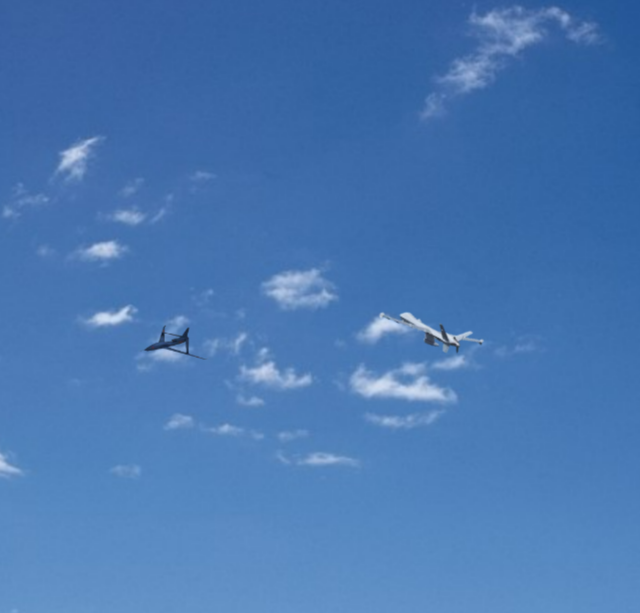military drone: (379, 310, 484, 353), (141, 325, 207, 359)
